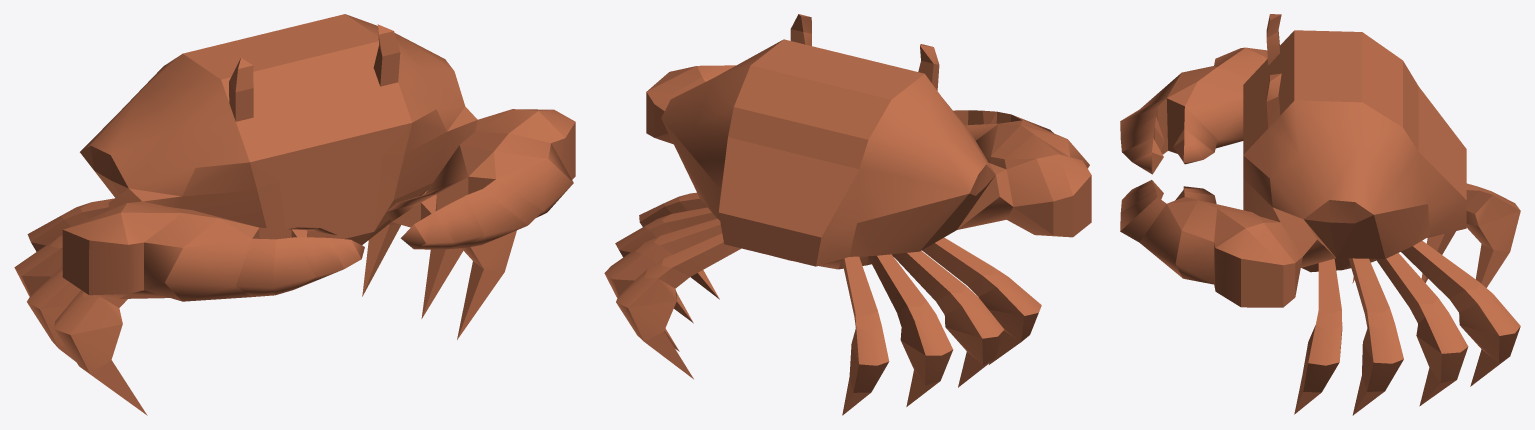
The model's file is Crab.fbx.
3 views of the same model, side by side, from view 1: azimuth 30°, elevation 25°; view 2: azimuth 150°, elevation 25°; view 3: azimuth 270°, elevation 25° (orthographic). The views are drawn at different scales.
Visible parts, largest first — view 1: Crab_Mesh3; view 2: Crab_Mesh3; view 3: Crab_Mesh3.
Boxes of the visible parts, bbox=[...] form: Crab_Mesh3: bbox=[14, 14, 575, 415]; Crab_Mesh3: bbox=[604, 14, 1091, 415]; Crab_Mesh3: bbox=[1120, 14, 1520, 415].
Bounding box in the file's own units: 8.24 × 5.53 × 6.56.
